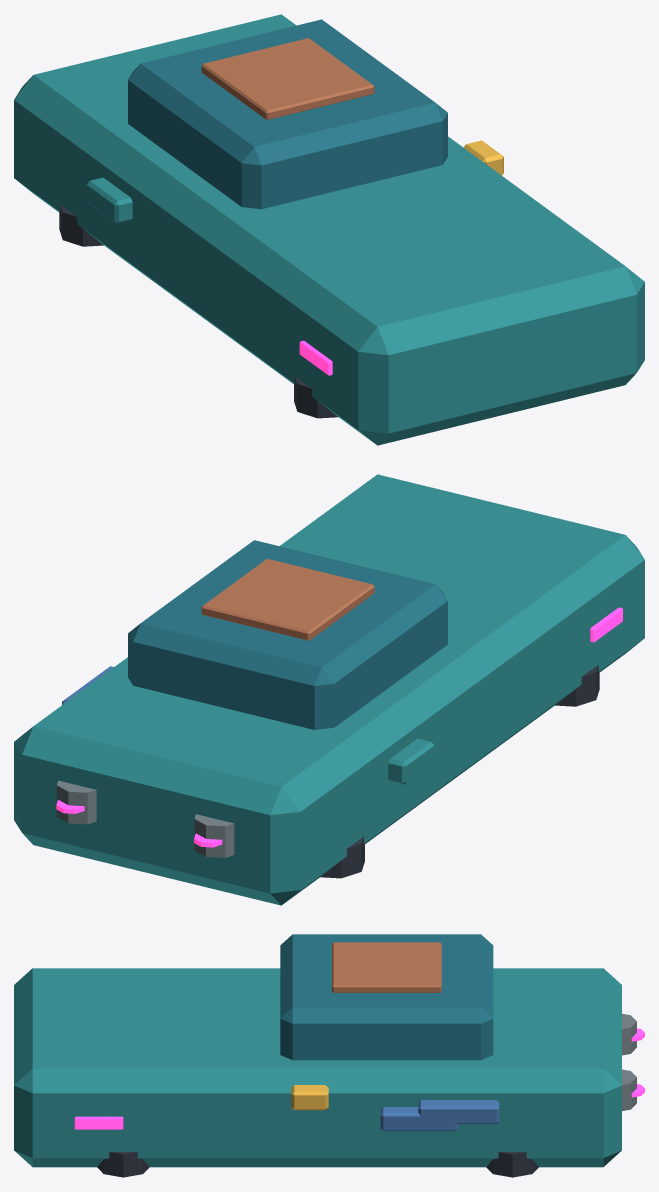
File: vehicles_015_seed11.glb
3 views of the same model, one above another, from view 1: azimuth 30°, elevation 25°; view 2: azimuth 150°, elevation 25°; view 3: azimuth 270°, elevation 25° (orthographic). The views are drawn at different scales.
Visible parts, largest first — view 1: vehicles_015_seed11; view 2: vehicles_015_seed11; view 3: vehicles_015_seed11.
Boxes of the visible parts, x1,y1,x2,y2 form: vehicles_015_seed11: (14, 14, 644, 445); vehicles_015_seed11: (14, 474, 644, 905); vehicles_015_seed11: (14, 934, 644, 1177).
Size of the model in its own units: 2.64 by 1.49 by 5.44.
